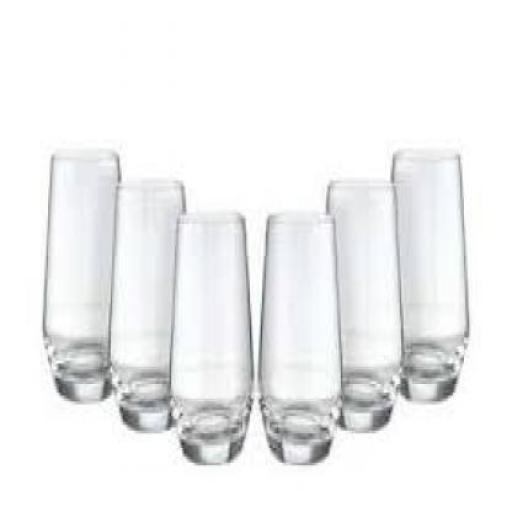glass: (260, 209, 344, 465), (174, 207, 254, 463), (44, 148, 123, 404), (392, 151, 472, 402), (112, 175, 188, 433), (329, 177, 405, 431)
